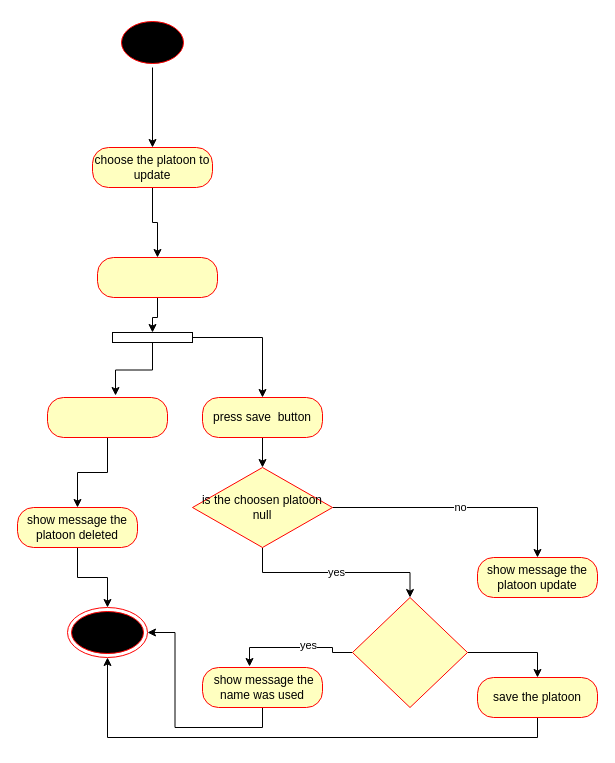
This 615x763 diagram has some shape labels left out. The centre of each missing label's shape, as x and y in pixels:
"delete platoon" belongs at (x=107, y=417).
"enter the name" belongs at (x=157, y=277).
"is the name was used" belongs at (x=410, y=652).
